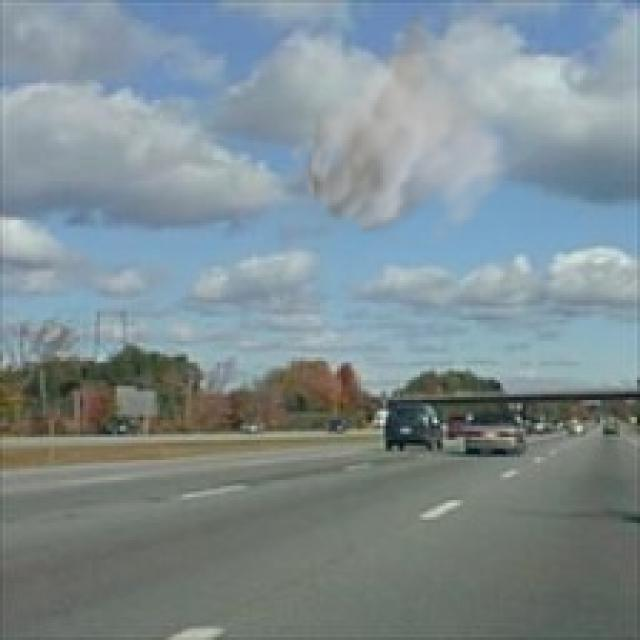smoke: (286, 3, 517, 257)
